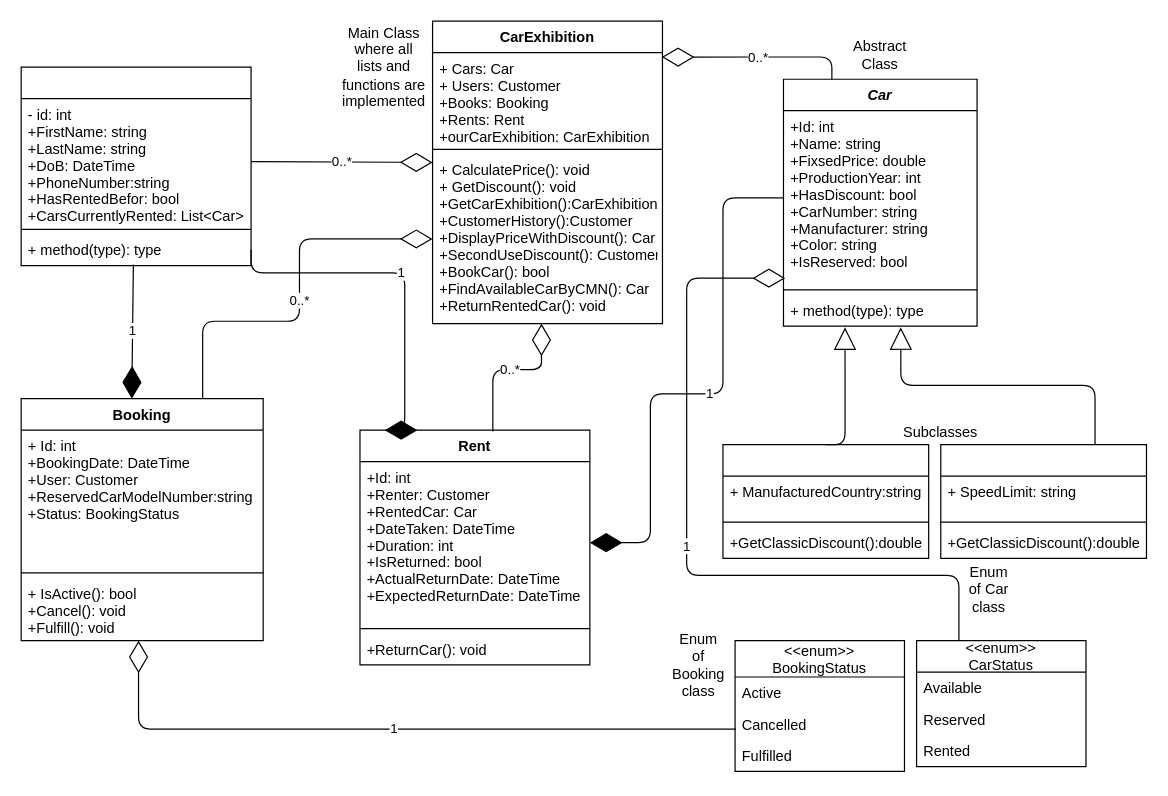
Image size: 1168x796. Some labels were removed from this diagram. The shapes that lost their labels are listed below. From the top down, each one's box as (x1, y1, x2, y2) in pixels, then its label:
(20, 66, 251, 266): Customer
(722, 443, 929, 558): ClassicCar
(940, 443, 1146, 558): SportsCar
